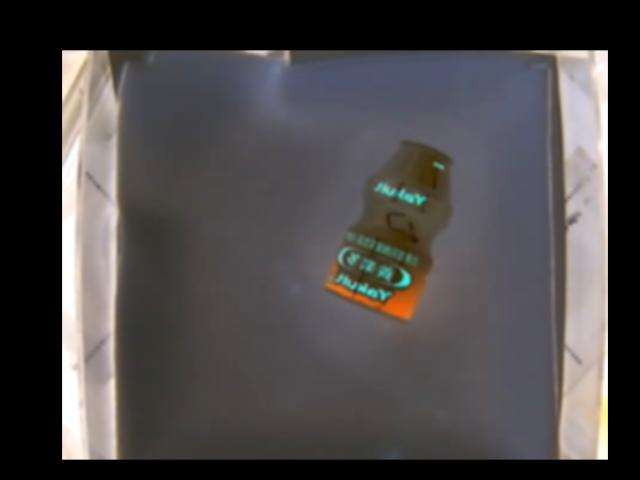Bottle: (323, 139, 458, 323)
